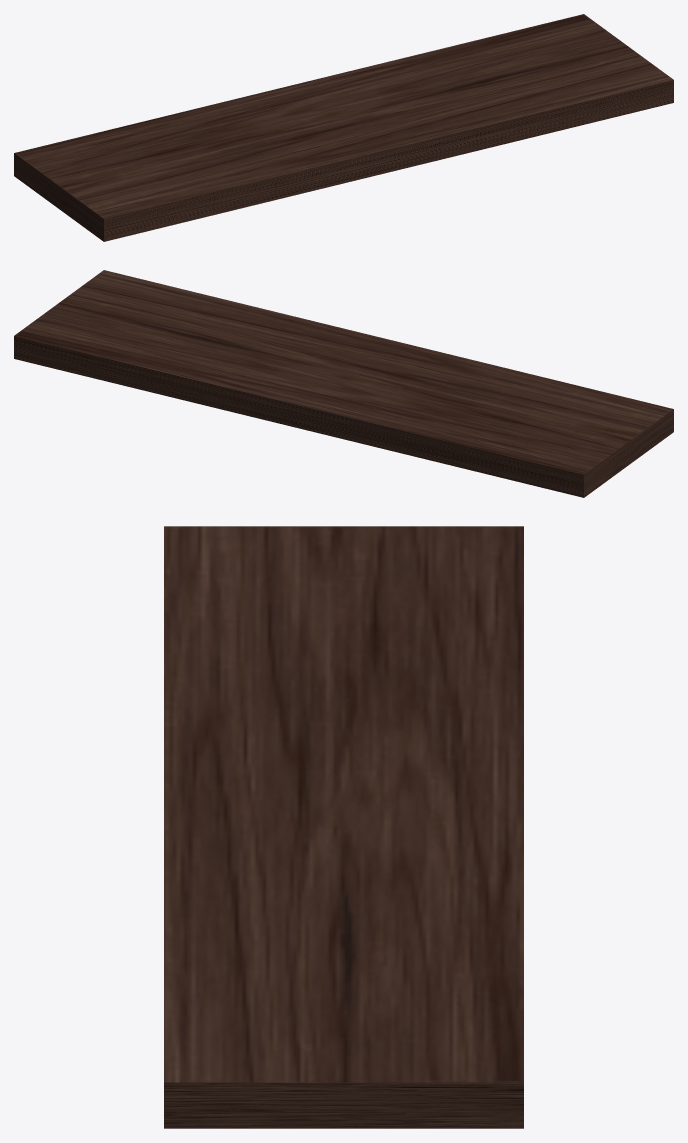
The model's file is NNJ0510016.fbx.
The picture shows the model from 3 angles, top to bottom: view 1: azimuth 30°, elevation 25°; view 2: azimuth 150°, elevation 25°; view 3: azimuth 270°, elevation 25°; orthographic projection. The views are drawn at different scales.
Visible parts, largest first — view 1: smNNJ0510016; view 2: smNNJ0510016; view 3: smNNJ0510016.
Boxes of the visible parts, <box> form: smNNJ0510016: <box>14,14,673,241</box>; smNNJ0510016: <box>14,270,673,497</box>; smNNJ0510016: <box>164,526,523,1128</box>.
Size of the model in its own units: 195 by 7.53 by 53.36.
1 material, 1 textured.
